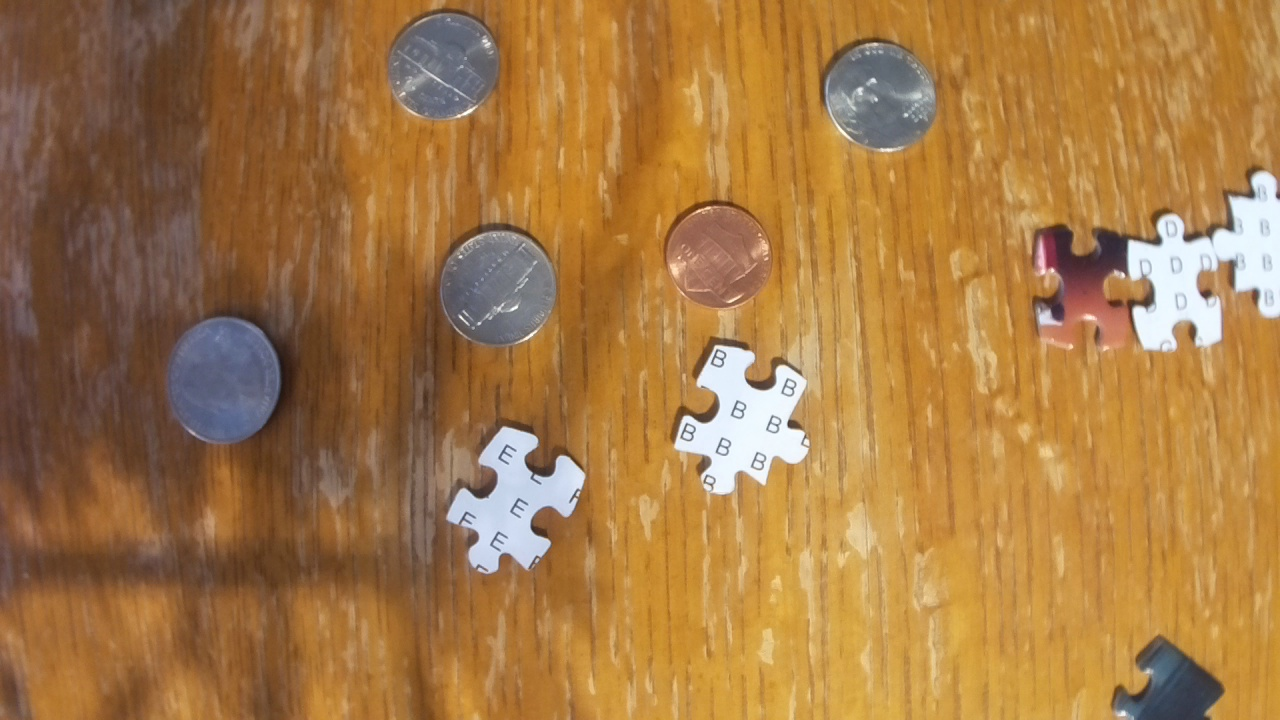nickel: (437, 225, 559, 350), (823, 40, 939, 155), (386, 10, 501, 121)
penny: (663, 201, 773, 311)
quarter: (165, 315, 288, 448)
